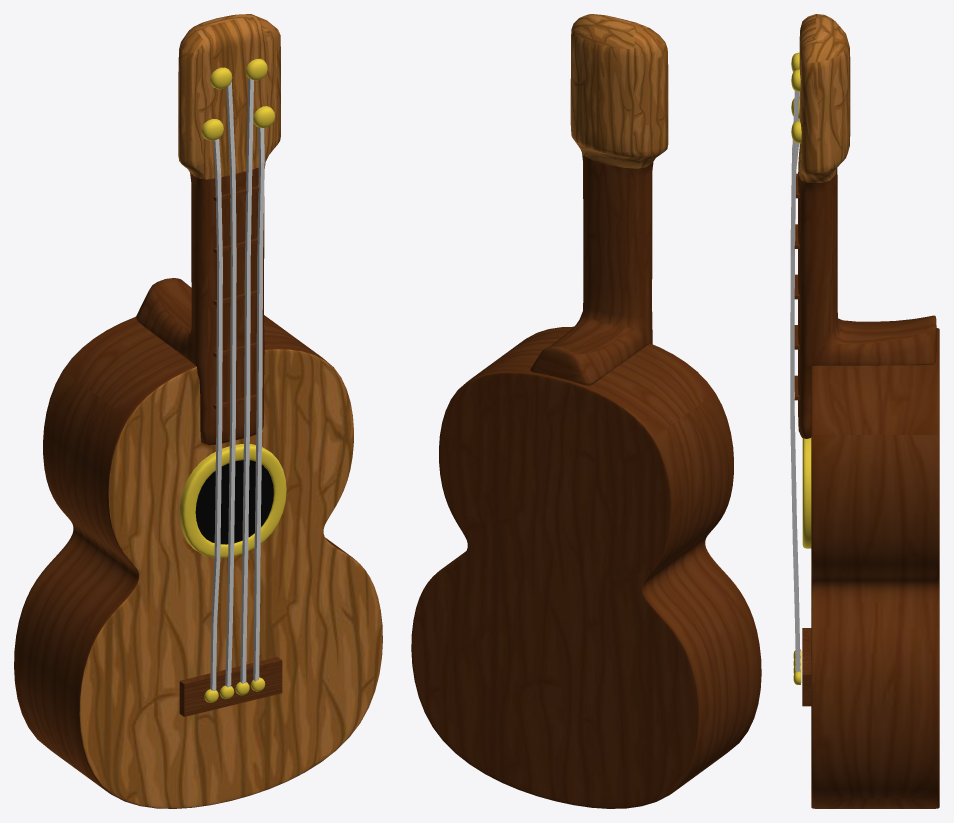
Rendered from Arma_Mirela.glb.
The picture shows the model from 3 angles, left to right: view 1: azimuth 30°, elevation 25°; view 2: azimuth 150°, elevation 25°; view 3: azimuth 270°, elevation 25°; orthographic projection. The views are drawn at different scales.
Visible parts, largest first — view 1: Cube.006; view 2: Cube.006; view 3: Cube.006.
Part boxes in pixels (box(x1,y1,x2,y2)): Cube.006: box(14, 14, 382, 808); Cube.006: box(411, 14, 761, 808); Cube.006: box(790, 14, 939, 808).
Size of the model in its own units: 2.86 by 6.98 by 1.25.
Materials: 5 (2 with a texture image).
